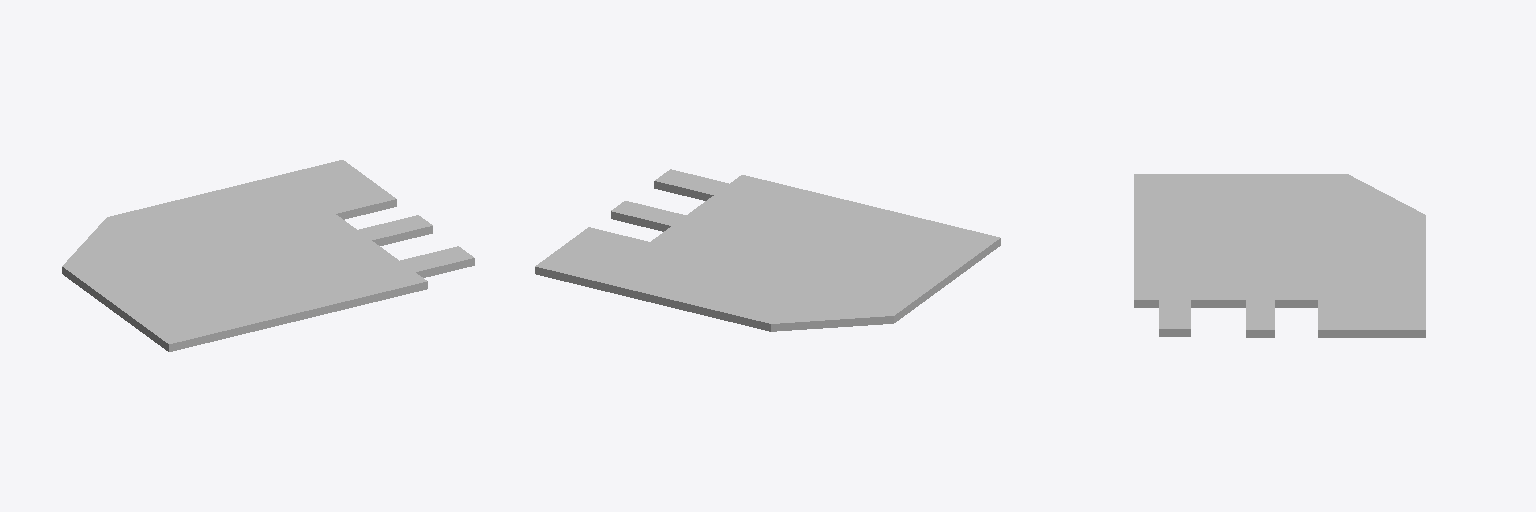
The model's file is Ejian_Floor_texture.obj.
3 renders of one model, left to right at view 1: azimuth 30°, elevation 25°; view 2: azimuth 150°, elevation 25°; view 3: azimuth 270°, elevation 25°, orthographic.
Visible parts, largest first — view 1: maps; view 2: maps; view 3: maps.
Boxes of the visible parts, x1,y1,x2,y2 form: maps: [62, 160, 474, 351]; maps: [535, 169, 1000, 331]; maps: [1134, 174, 1425, 337].
Bounding box in the file's own units: 169 × 3.94 × 133.